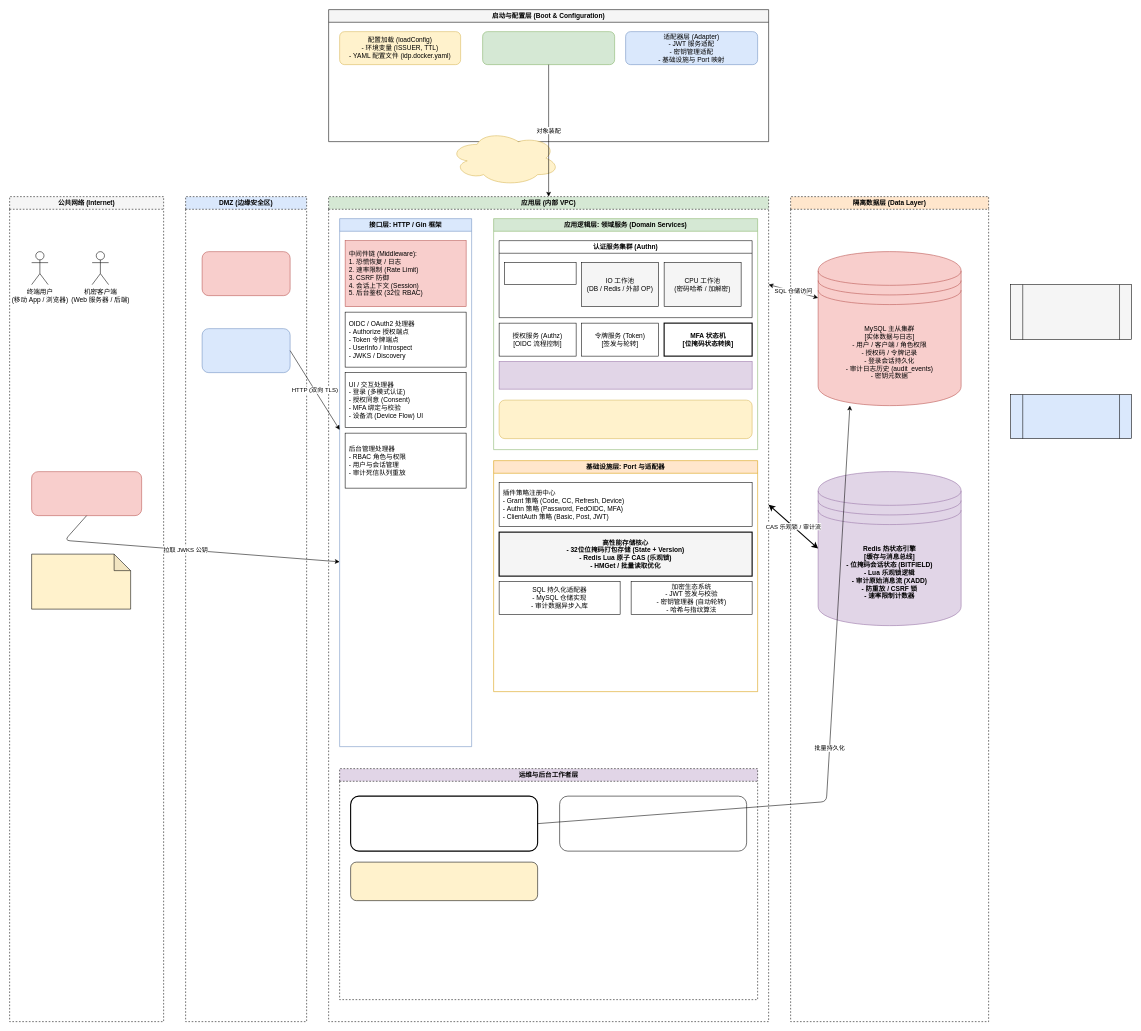
Some shapes in this 1141 by 1031 pixel diagram are drawn without their labels. The centre of each missing label's shape, as x and y in pixels:
KMS / Vault [硬件安全模块 HSM]: the point at 1071,312
OIDC Discovery 文档 [/.well-known/openid-conf]: the point at 81,581
WAF / 抗 DDoS [限流 / IP 黑名单]: the point at 246,273
依赖注入中心: Wire.go - initializeApp() - 依赖倒置与对象装配 - 服务链初始化: the point at 548,48
全局负载均衡 [SSL/TLS 卸载]: the point at 246,350
外部 OIDC 提供商 [上游联邦认证]: the point at 504,158
审计流消费者 (Consumer) - 分组: "audit_group" - 行为: 批量写入 MySQL - 异常: 写入死信队列 (DLQ): the point at 444,823
审计流生产者 [异步 XADD 写入消息队列]: the point at 625,375
死信重放工具 (DLQ Replay) - cmd/replay_audit_dlq - 生产环境故障数据恢复: the point at 444,881
系统定时任务 - 过期会话与 Nonce 清理 - 签名密钥轮换监控 (Watcher) - 防重放缓存自动逐出: the point at 653,823
认证核心逻辑: the point at 540,273
资源服务器 (RS) [JWT / JWKS 校验]: the point at 86,493
通知网关 [短信 / 邮件发送]: the point at 1071,416
领域层核心模型 (Entities) [用户, 客户端, 会话, 令牌, 角色, 审计, Passkey 凭据]: the point at 625,419
